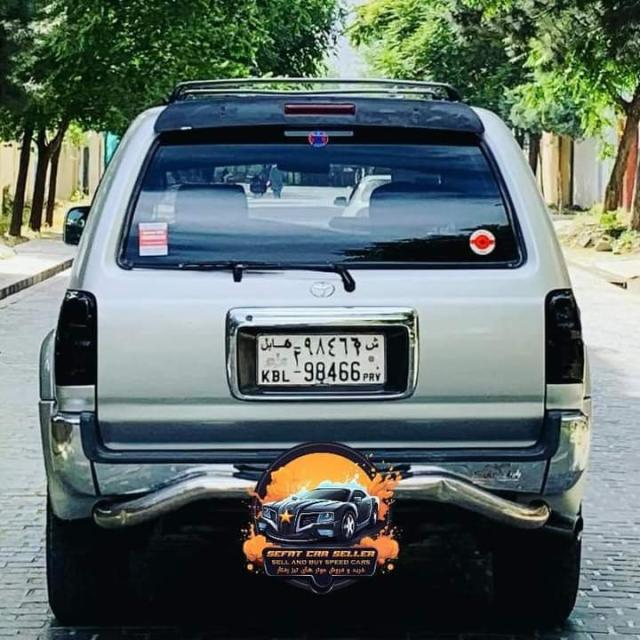Plate: (258, 336, 384, 382)
